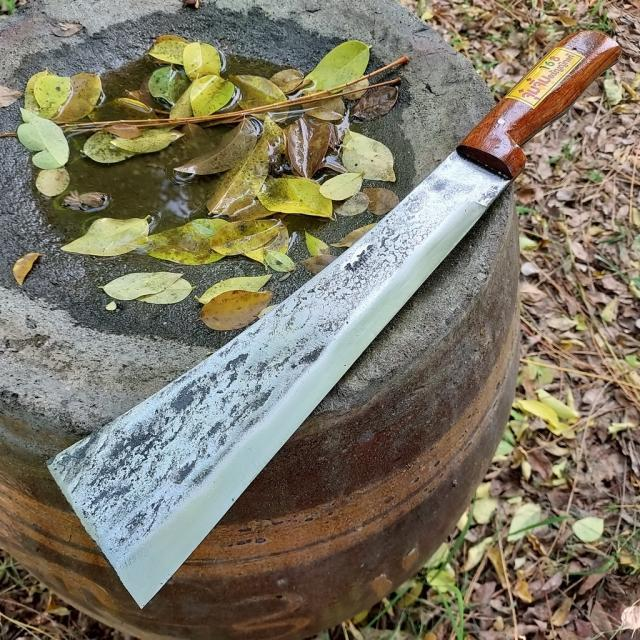eto: (42, 24, 626, 617)
